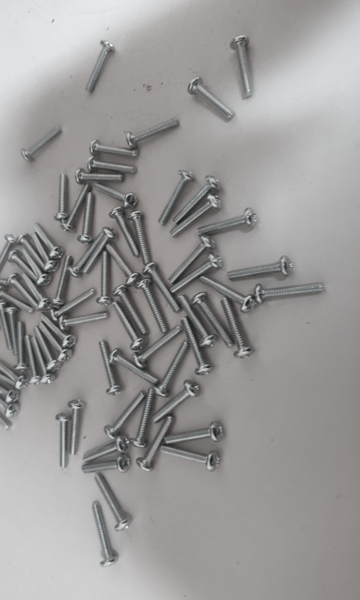longscrew: (189, 293, 238, 350), (94, 474, 133, 533), (170, 196, 221, 240), (219, 295, 254, 359), (173, 178, 222, 223), (176, 318, 213, 377), (152, 382, 200, 427), (177, 295, 215, 348), (187, 79, 236, 120), (77, 40, 117, 90), (137, 418, 174, 471), (100, 396, 146, 438), (132, 278, 167, 333), (144, 264, 179, 319), (170, 238, 214, 281), (171, 257, 222, 294), (228, 259, 293, 288), (128, 117, 180, 153), (159, 172, 196, 222), (92, 501, 119, 569), (84, 224, 120, 274), (135, 330, 181, 369), (201, 279, 256, 310), (166, 423, 226, 451), (109, 206, 141, 258), (156, 345, 188, 396), (68, 232, 103, 277), (111, 351, 157, 385), (198, 212, 257, 238), (113, 303, 147, 348), (113, 286, 147, 331), (60, 183, 92, 230), (254, 281, 330, 300), (36, 323, 74, 361), (234, 33, 253, 106), (21, 127, 62, 160), (53, 291, 95, 322), (99, 338, 121, 396), (82, 436, 129, 463), (134, 388, 155, 448), (29, 331, 53, 383), (96, 246, 117, 305), (37, 324, 63, 371), (131, 210, 151, 266), (161, 449, 219, 468), (20, 234, 47, 274), (53, 253, 74, 304), (83, 455, 131, 477), (40, 315, 73, 347), (107, 248, 138, 282), (34, 221, 62, 258), (56, 312, 111, 330), (52, 411, 69, 468), (66, 397, 83, 454), (22, 248, 48, 285), (78, 189, 96, 242), (31, 233, 55, 272), (7, 275, 35, 308), (25, 272, 48, 310), (0, 357, 28, 387), (87, 141, 141, 156), (90, 184, 139, 200), (0, 290, 34, 313), (13, 323, 29, 370), (25, 336, 41, 382), (4, 307, 19, 354), (0, 232, 16, 275), (9, 253, 34, 280), (84, 160, 140, 172), (56, 169, 68, 219), (74, 171, 126, 182), (0, 389, 19, 419), (0, 363, 19, 392), (0, 301, 11, 348), (0, 374, 17, 403), (0, 398, 9, 427), (0, 272, 10, 285)
